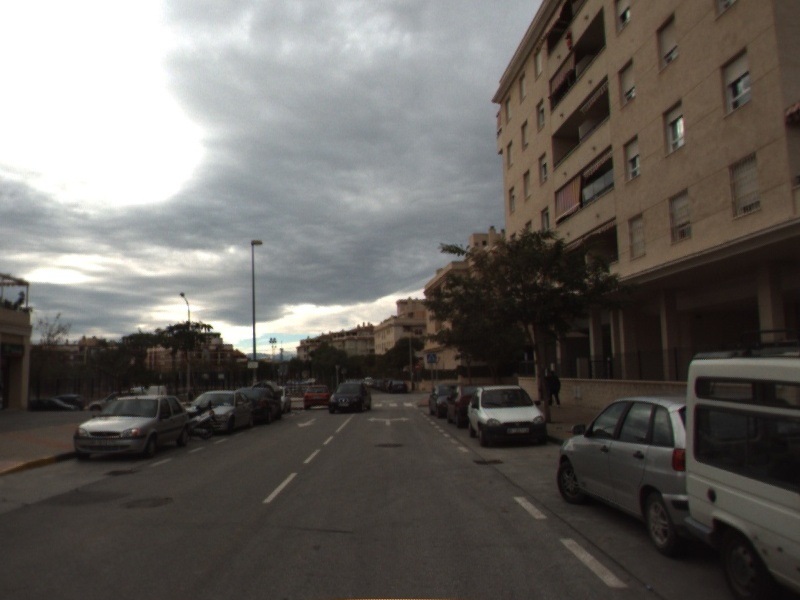LEFT_RIGHT: (365, 414, 412, 427)
